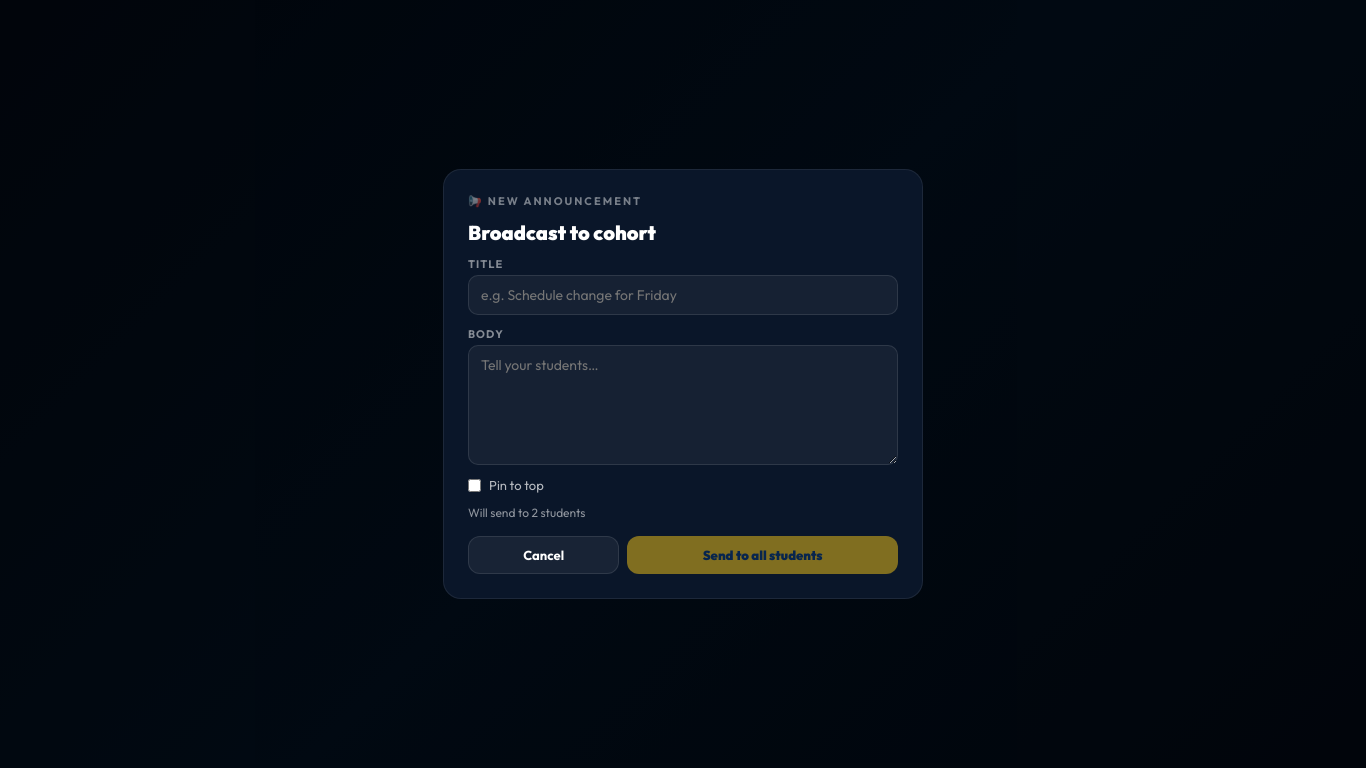
it: AnnouncementModal › disables Send until title and body are filled
This screenshot has width=1366, height=768.
Check: the button with test id "send-announcement-btn" is disabled, box 627,536 -> 898,574
Type "Heads up" into the field named "Announcement title" at (683, 295), box 468,275 -> 898,315
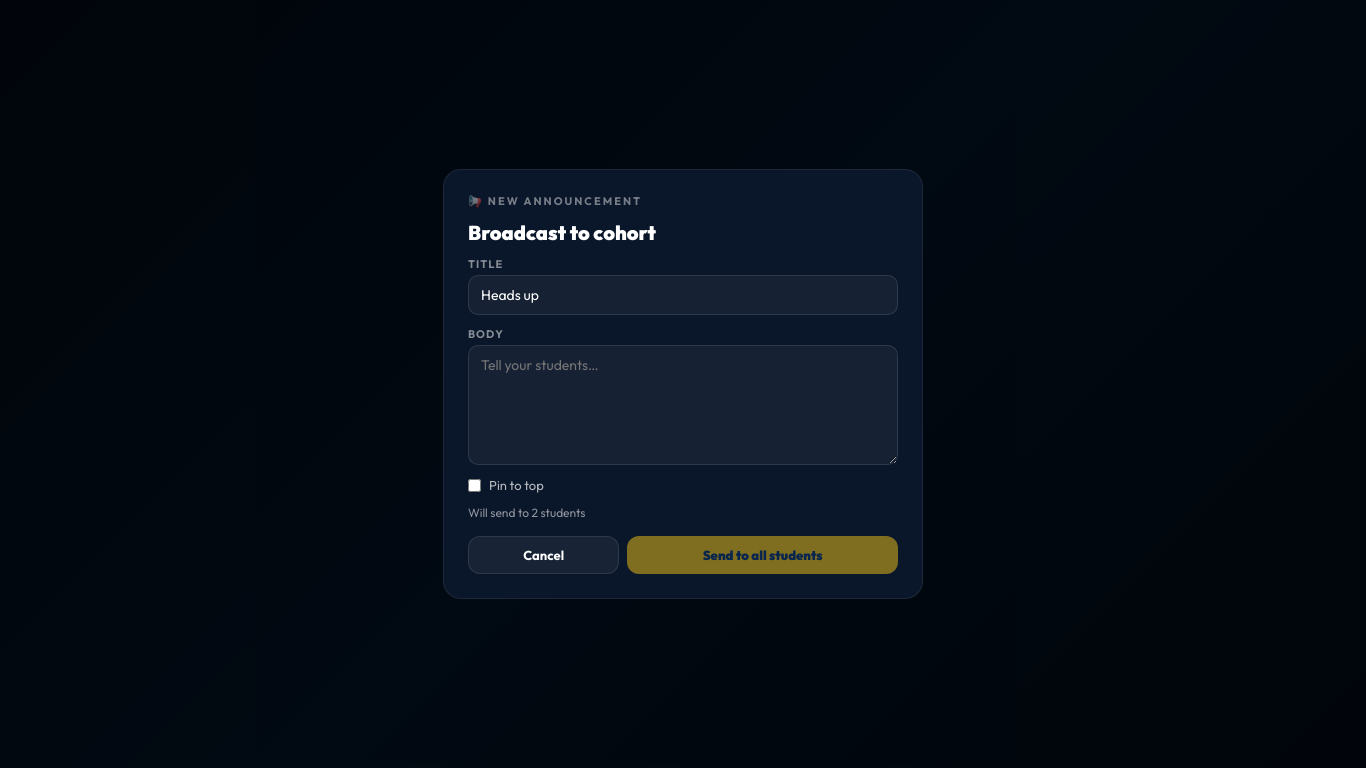
Check: the button with test id "send-announcement-btn" is disabled, box 627,536 -> 898,574
Type "Read this" into the text box named "Announcement body" at (683, 405), box 468,345 -> 898,465
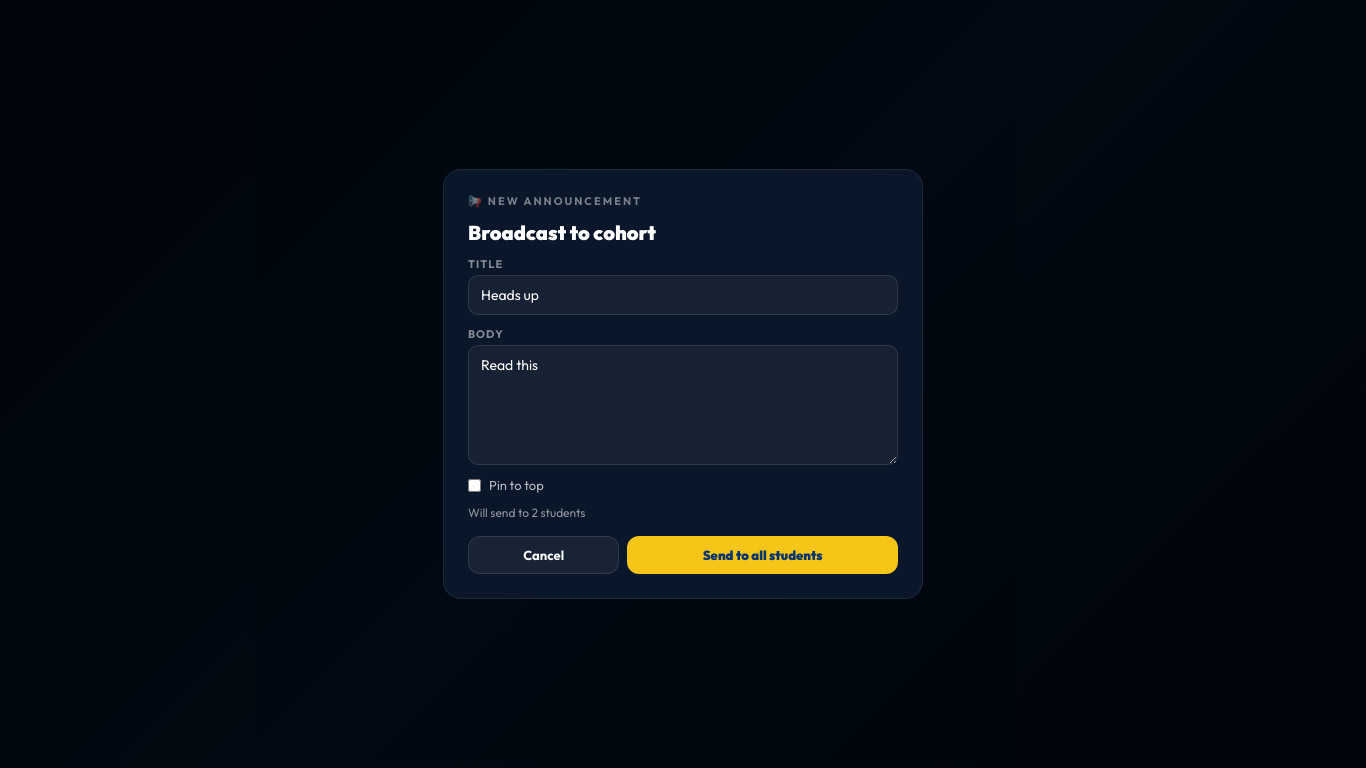
Check: the button with test id "send-announcement-btn" is enabled, box 627,536 -> 898,574
